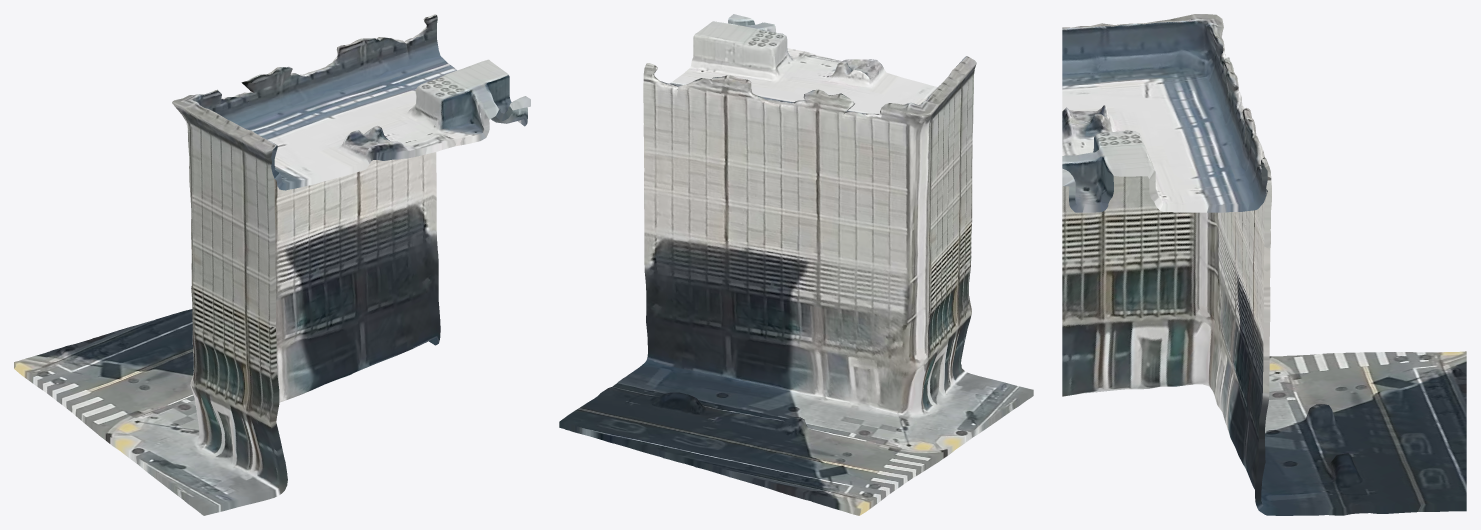
File: z20-167756-405241-h0-yup-uvflip-v3-world.glb
The picture shows the model from 3 angles, left to right: view 1: azimuth 30°, elevation 25°; view 2: azimuth 150°, elevation 25°; view 3: azimuth 270°, elevation 25°; orthographic projection. The views are drawn at different scales.
Size of the model in its own units: 30.16 by 31.28 by 30.32.
1 material, 1 textured.
